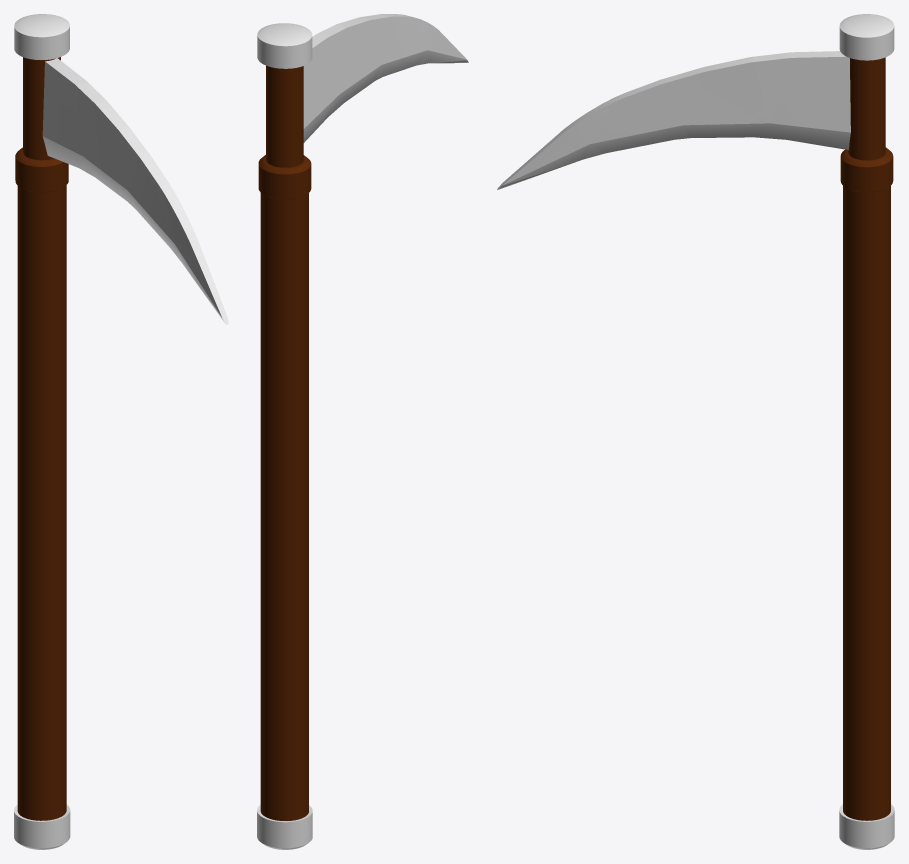
File: gun_3_2.fbx
3 views of the same model, side by side, from view 1: azimuth 30°, elevation 25°; view 2: azimuth 150°, elevation 25°; view 3: azimuth 270°, elevation 25° (orthographic).
Parts seen in each view (by area): view 1: gun_3_1; view 2: gun_3_1; view 3: gun_3_1.
Boxes of the visible parts, x1,y1,x2,y2 form: gun_3_1: [14, 14, 228, 849]; gun_3_1: [257, 14, 468, 849]; gun_3_1: [497, 14, 894, 849].
Bounding box in the file's own units: 343 × 5443 × 2402.
